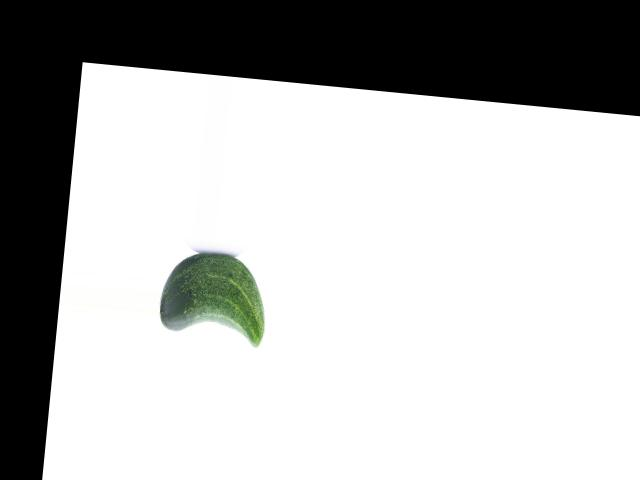cucumber: (157, 248, 272, 347)
